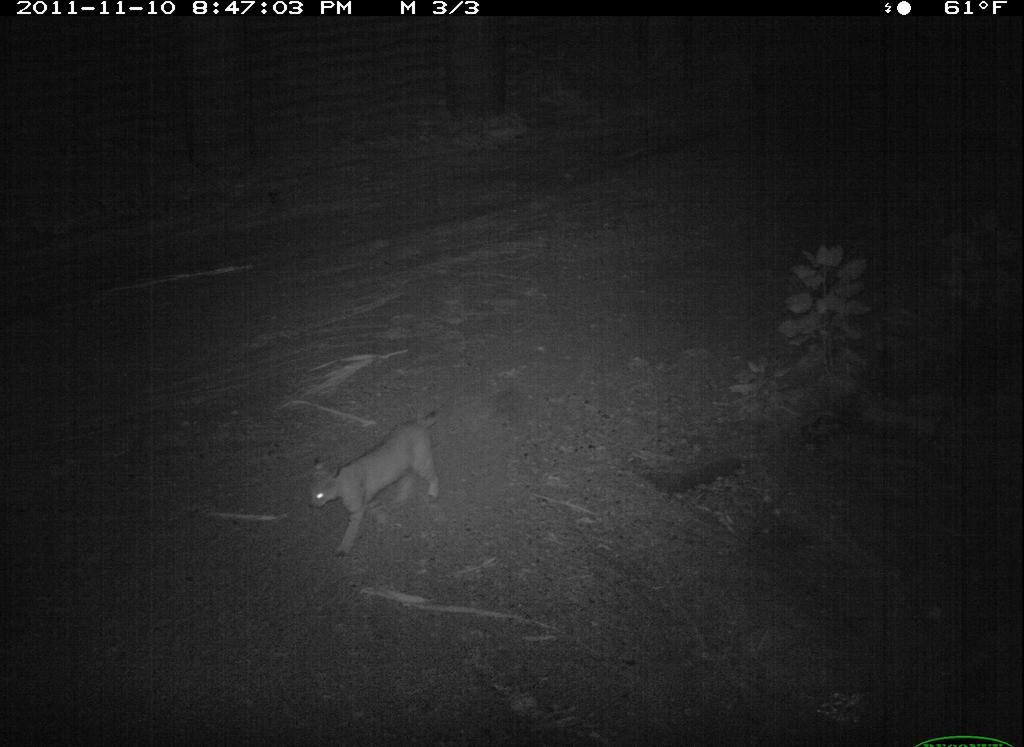bobcat: (306, 395, 461, 565)
